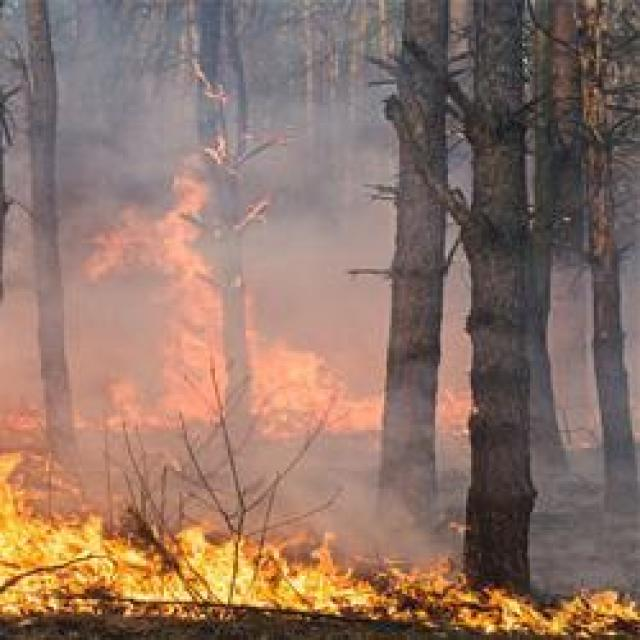fire: (73, 136, 380, 436), (0, 443, 463, 640), (471, 571, 640, 640), (430, 377, 480, 435)
